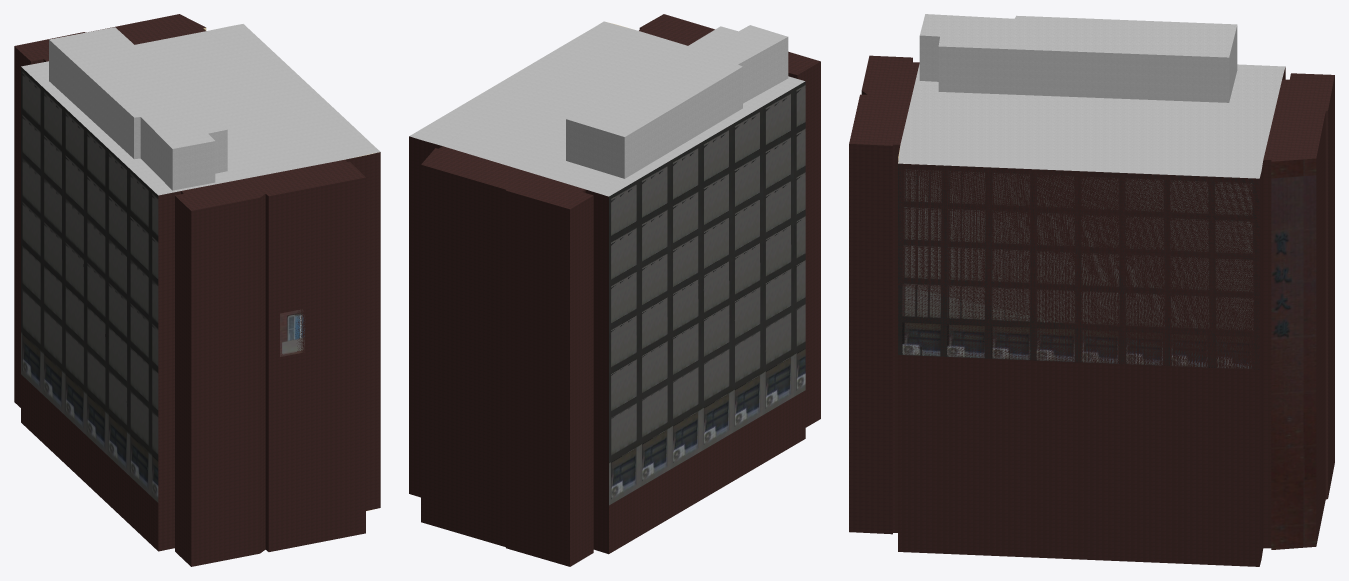
File: zsdl.gltf
3 renders of one model, left to right at view 1: azimuth 30°, elevation 25°; view 2: azimuth 150°, elevation 25°; view 3: azimuth 270°, elevation 25°, orthographic. The views are drawn at different scales.
Parts seen in each view (by area): view 1: root; view 2: root; view 3: root.
Part boxes in pixels (x1,y1,x2,y2): root: (14,14,380,566); root: (409,14,820,566); root: (849,14,1334,566).
Size of the model in its own units: 21.84 by 34.59 by 35.11.
Materials: 10 (8 with a texture image).
